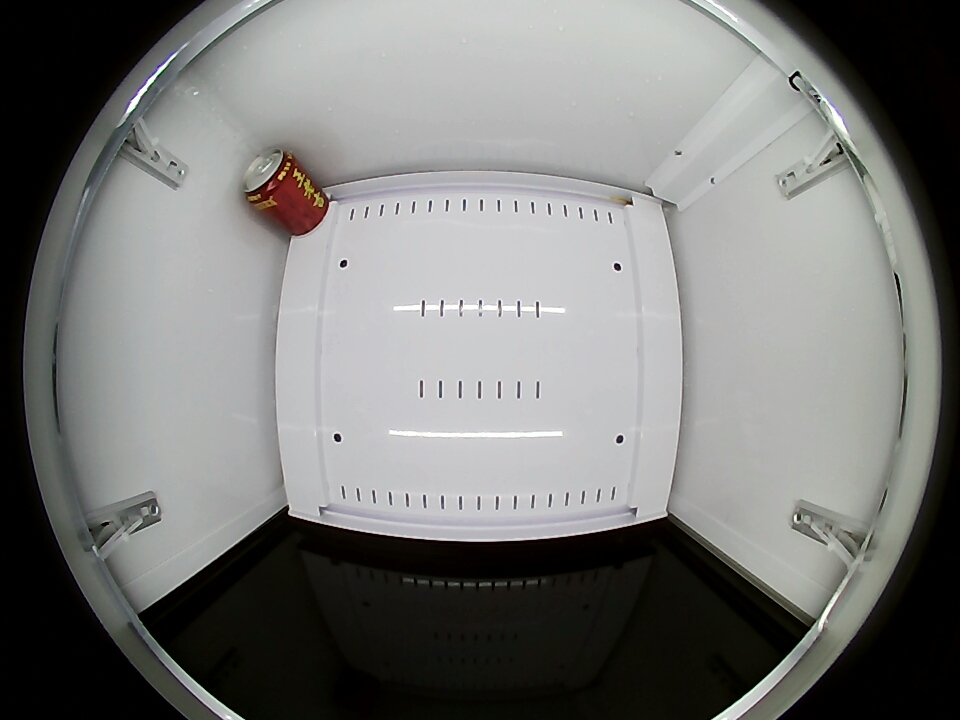wanglaoji-c: (242, 147, 298, 208)
